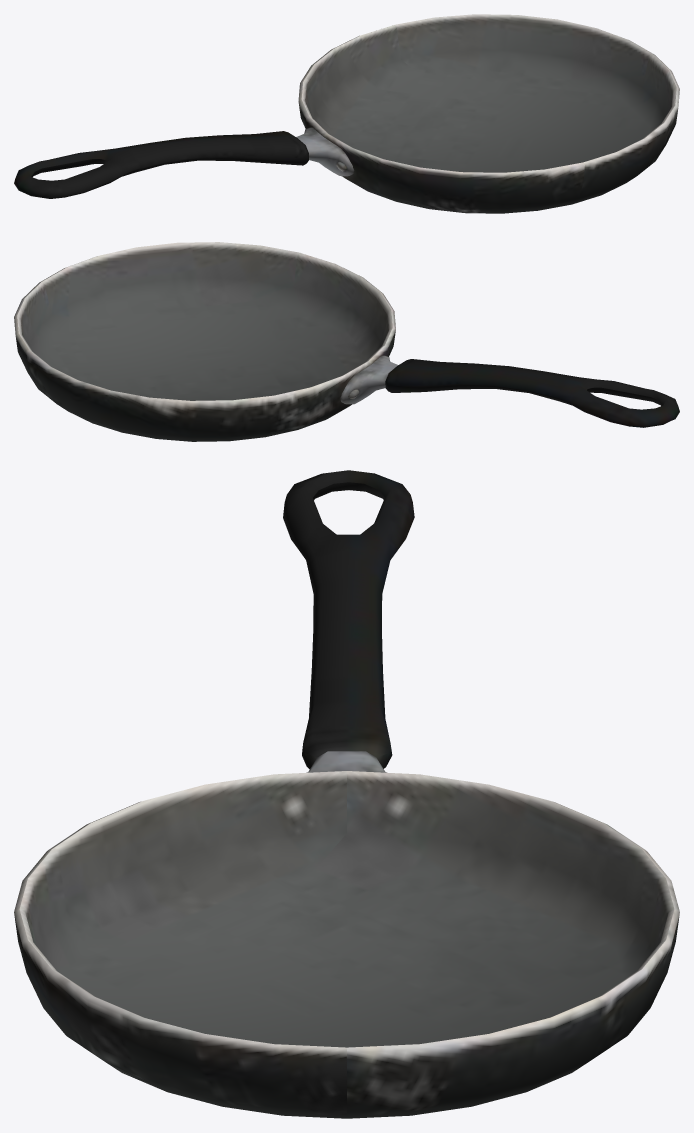
The model's file is pan.glb.
3 views of the same model, one above another, from view 1: azimuth 30°, elevation 25°; view 2: azimuth 150°, elevation 25°; view 3: azimuth 270°, elevation 25° (orthographic). The views are drawn at different scales.
Visible parts, largest first — view 1: Pan_A; view 2: Pan_A; view 3: Pan_A.
Boxes of the visible parts, x1,y1,x2,y2 form: Pan_A: (14, 14, 679, 213); Pan_A: (14, 242, 679, 441); Pan_A: (14, 470, 679, 1118).
Bounding box in the file's own units: 0.633 × 0.084 × 0.33.
Materials: 1 (1 with a texture image).
